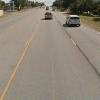Car: (42, 6, 84, 27)
